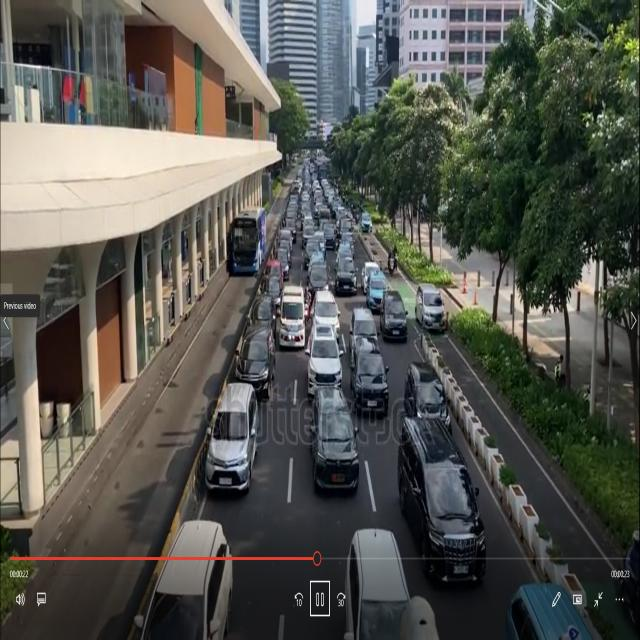Ambulance: (277, 277, 306, 358)
